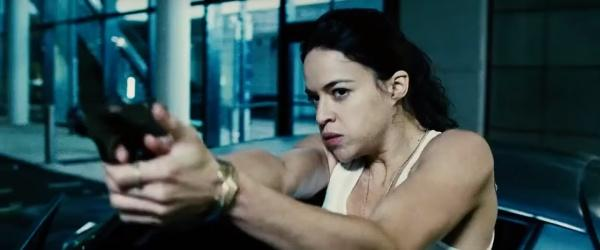Gun: (66, 101, 168, 166)
